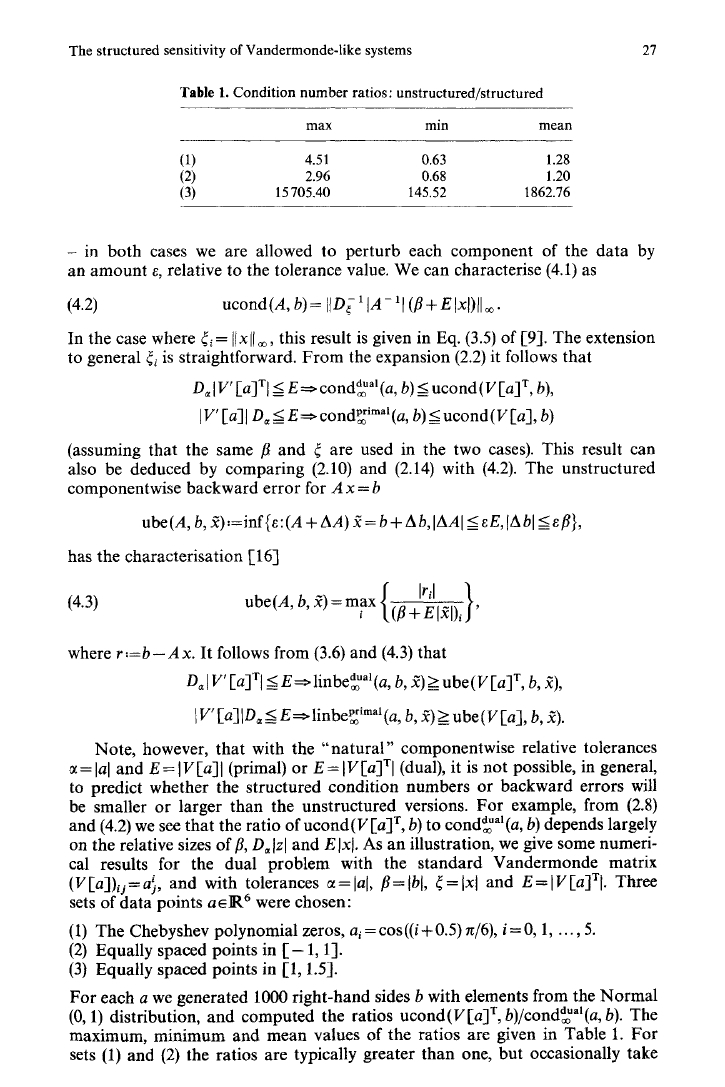Table: (180, 107, 572, 206)
formula: (68, 580, 478, 623), (67, 294, 499, 315), (142, 512, 580, 532), (186, 670, 561, 692), (195, 705, 563, 726), (200, 405, 553, 425), (192, 378, 552, 397)
